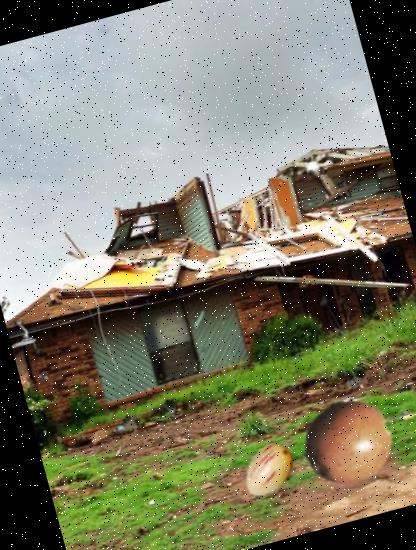Granadilla: (289, 366, 416, 508)
Pepino: (234, 435, 306, 507)
